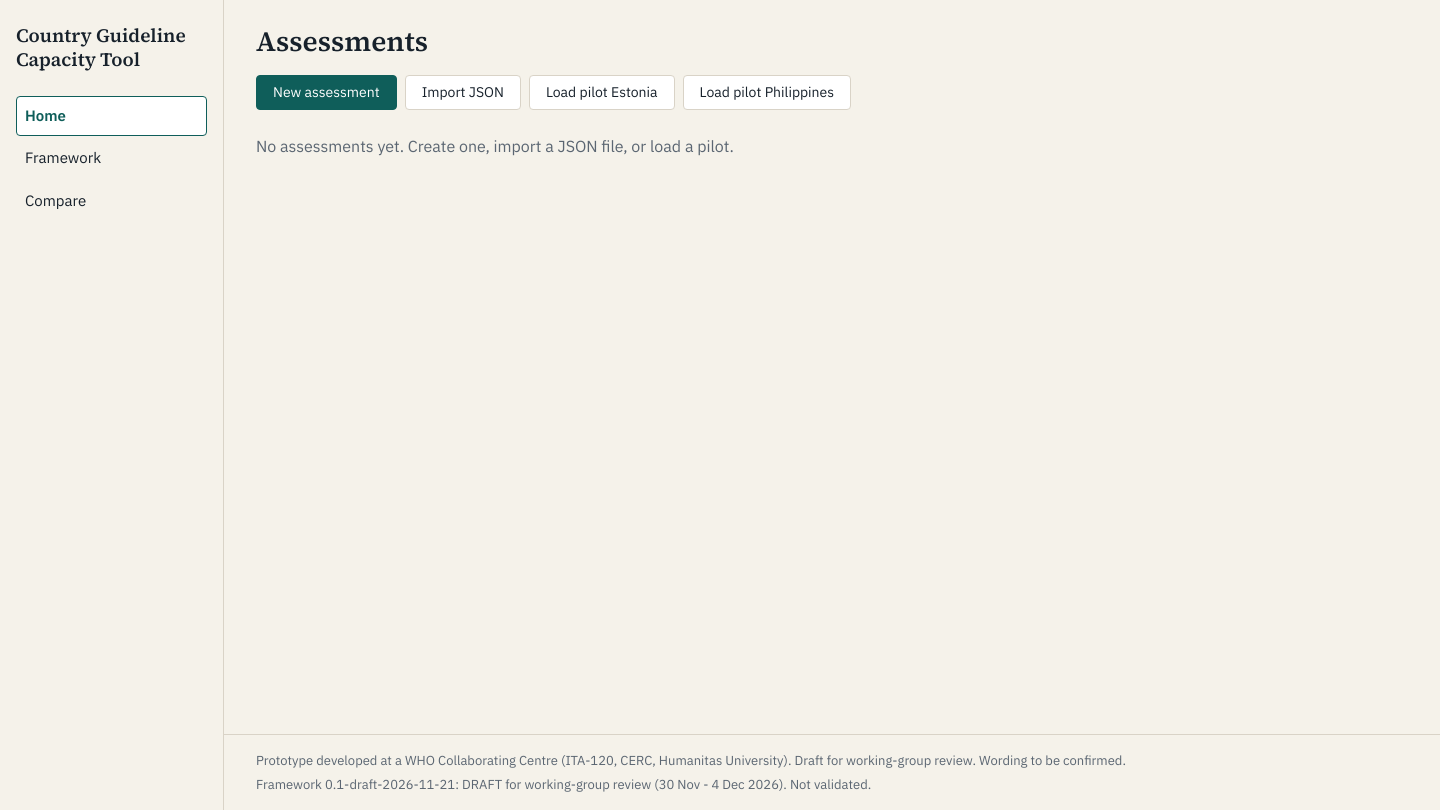
Test: App smoke › renders Home and loads the Estonia pilot with a national score and coverage
Expected: the heading "Assessments" is shown, [256,22,428,60]
Click the button "Load pilot Estonia". click: (602, 92)
box: [529,75,674,110]
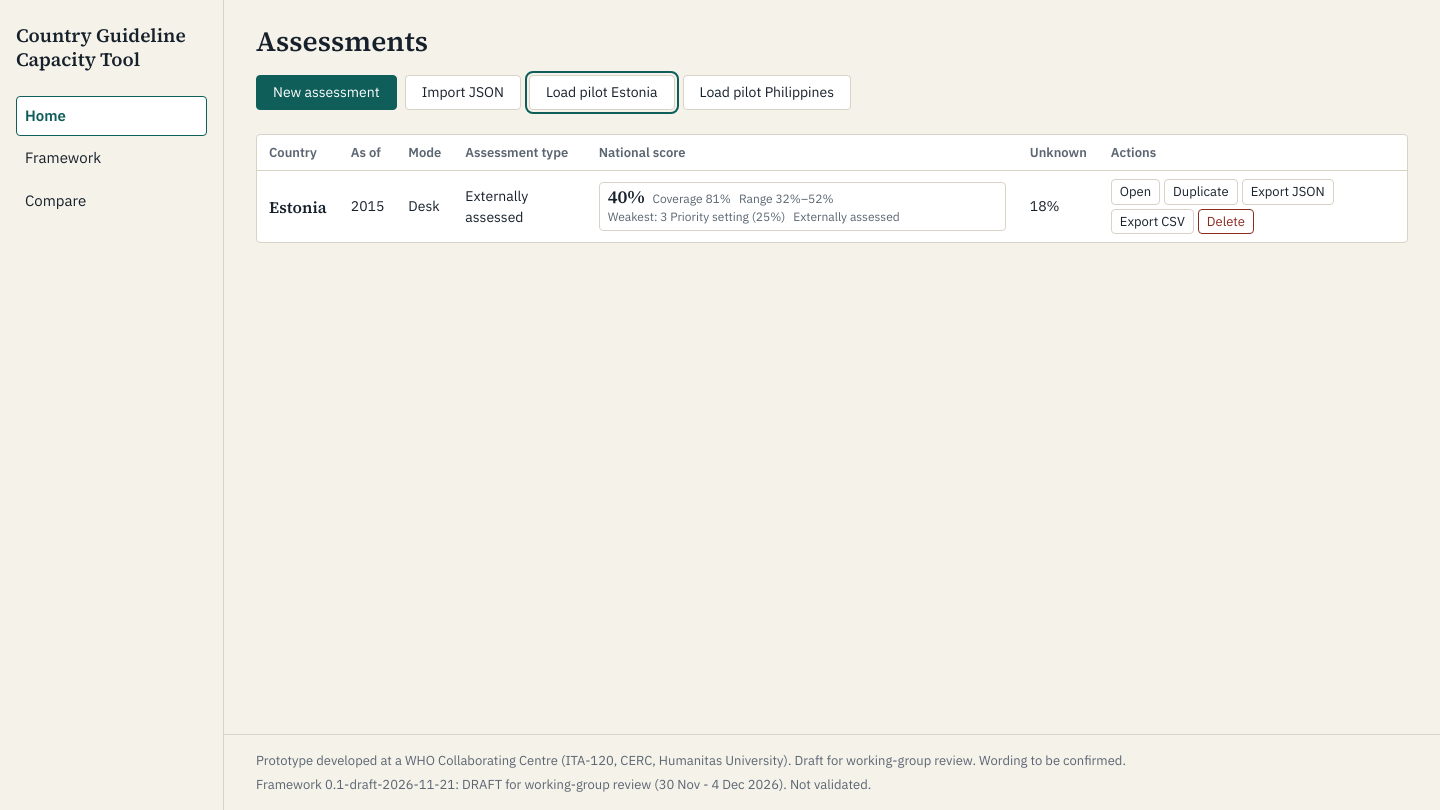
Now the text "40%" is shown, box [608,187,644,207]
Now the text "Coverage 81%" is shown, box [652,190,731,208]
Now the text "Range 32%–52%" is shown, box [739,190,834,208]
